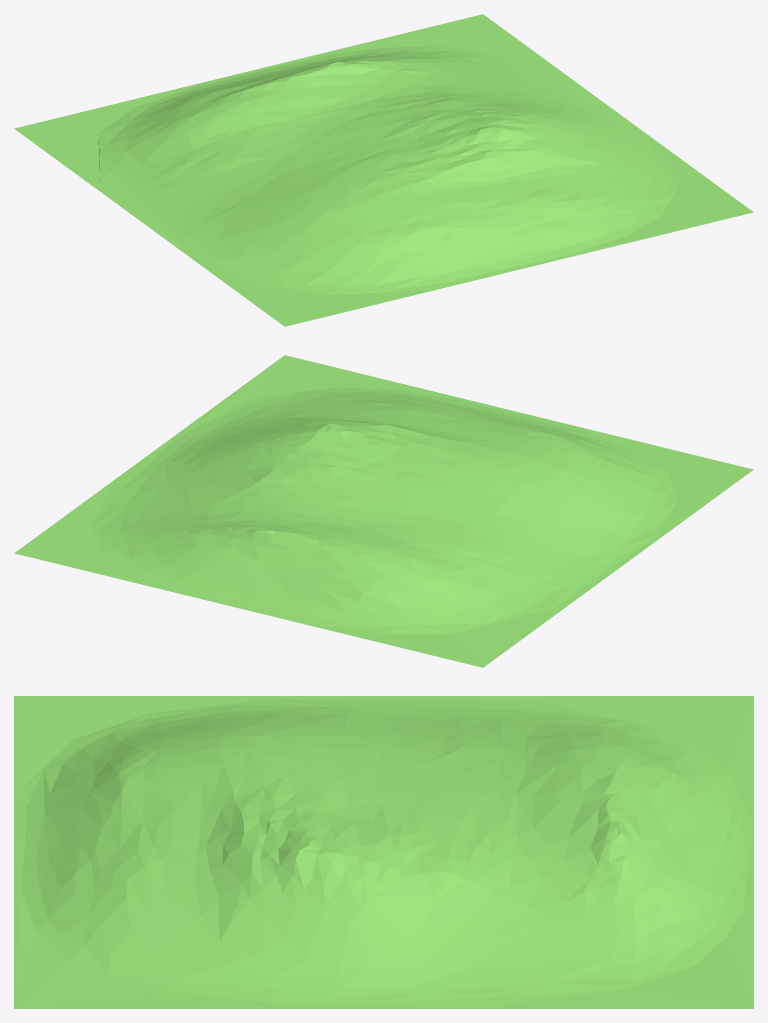
File: Sin_nombre.glb
3 views of the same model, one above another, from view 1: azimuth 30°, elevation 25°; view 2: azimuth 150°, elevation 25°; view 3: azimuth 270°, elevation 25° (orthographic). The views are drawn at different scales.
Parts seen in each view (by area): view 1: Landscape; view 2: Landscape; view 3: Landscape.
Boxes of the visible parts, x1,y1,x2,y2 form: Landscape: (14, 14, 753, 326); Landscape: (14, 355, 753, 667); Landscape: (14, 696, 753, 1008).
Bounding box in the file's own units: 2 × 0.1791 × 2.
